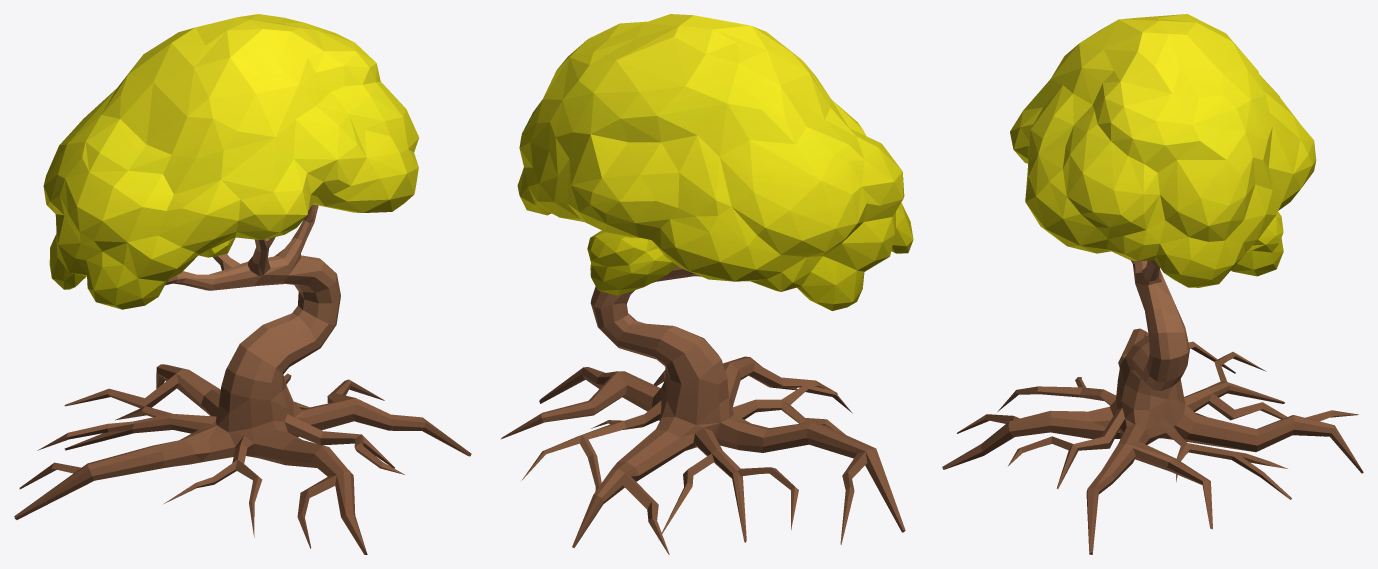
File: Tree_common_Yellow_05.fbx
The picture shows the model from 3 angles, left to right: view 1: azimuth 30°, elevation 25°; view 2: azimuth 150°, elevation 25°; view 3: azimuth 270°, elevation 25°; orthographic projection. The views are drawn at different scales.
Parts seen in each view (by area): view 1: Tree_common_Yellow_05; view 2: Tree_common_Yellow_05; view 3: Tree_common_Yellow_05.
Part boxes in pixels (x1=…): Tree_common_Yellow_05: x1=14, y1=14, x2=471, y2=554; Tree_common_Yellow_05: x1=501, y1=14, x2=913, y2=554; Tree_common_Yellow_05: x1=942, y1=14, x2=1363, y2=554.
Bounding box in the file's own units: 1203 × 1265 × 1103.
